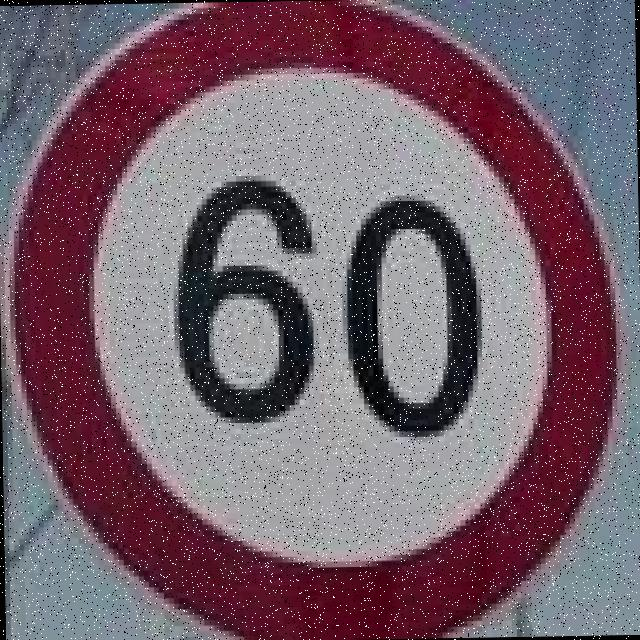Ograniczenie predkosci do 60: (0, 0, 620, 639)
